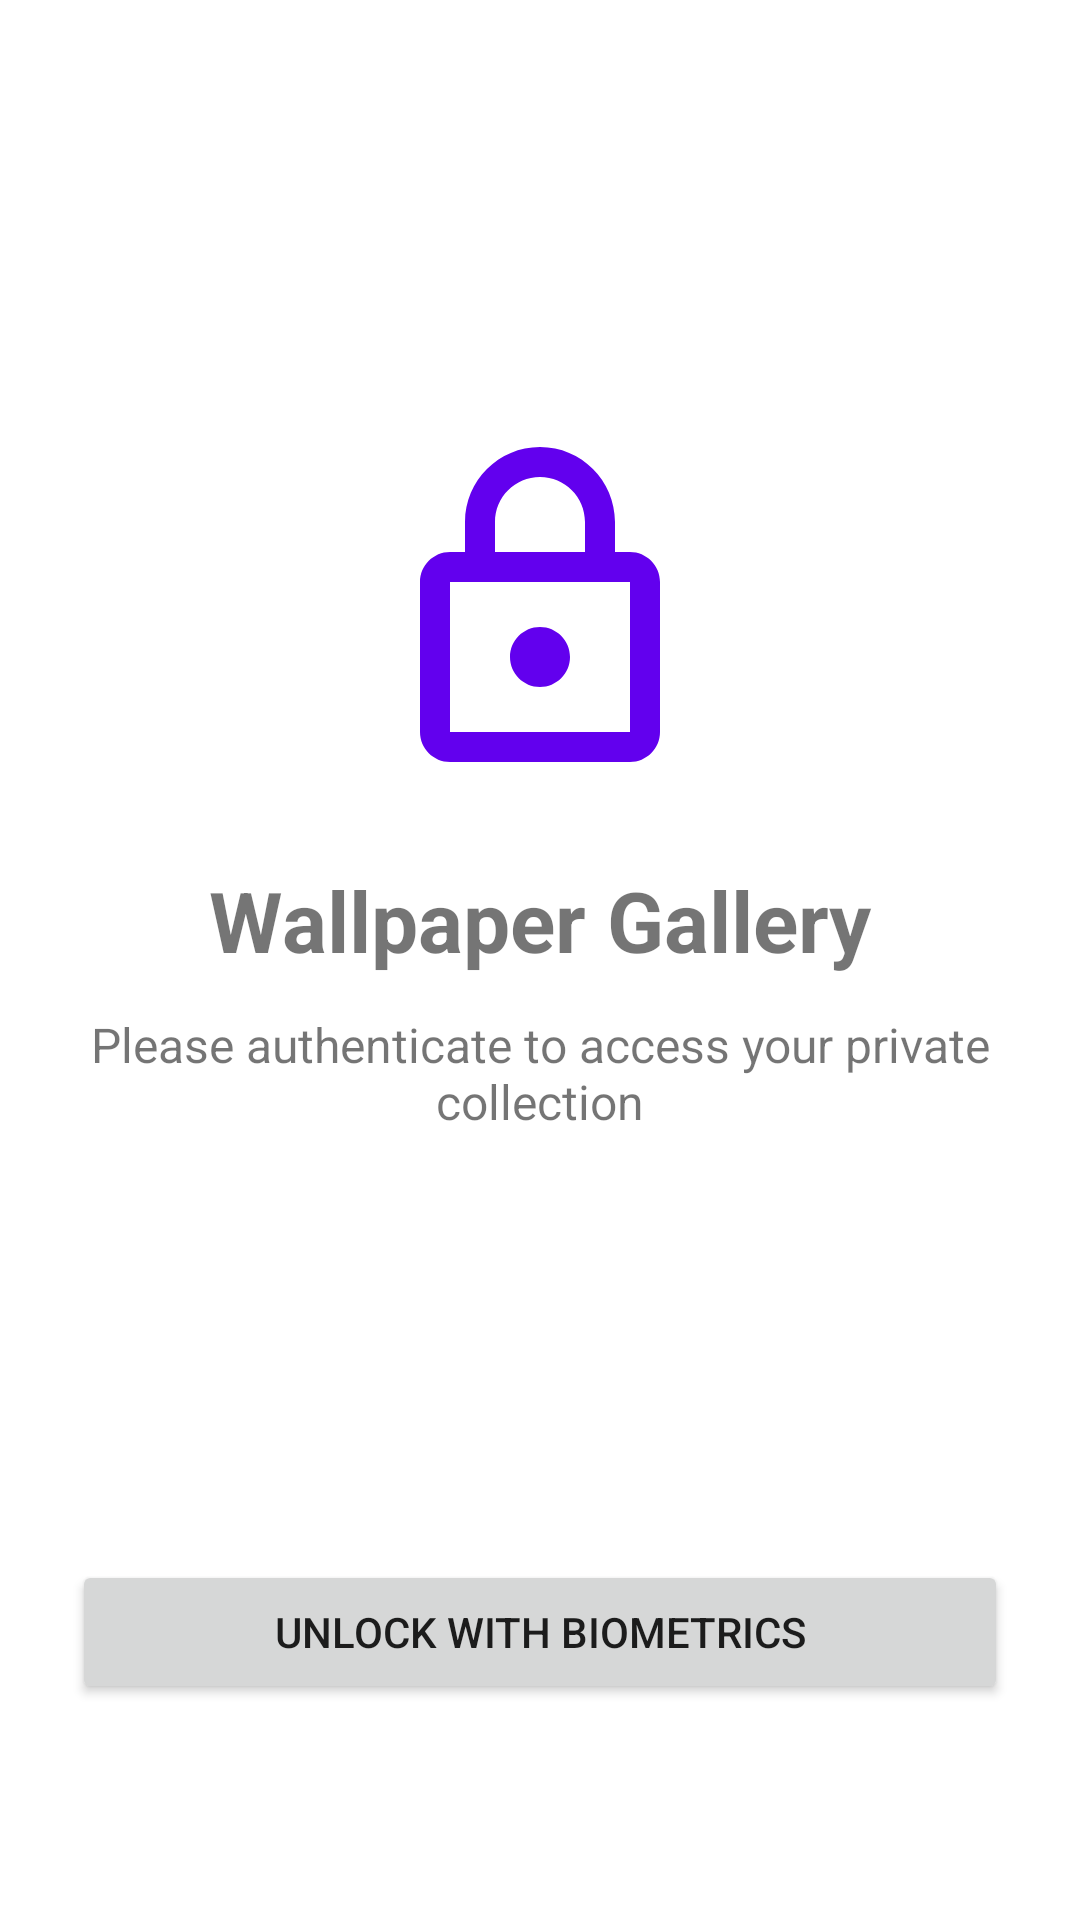

Point at icon controls on the screen. Image size 1080px×1920px, points as (x,y).
lock: (540,604)
